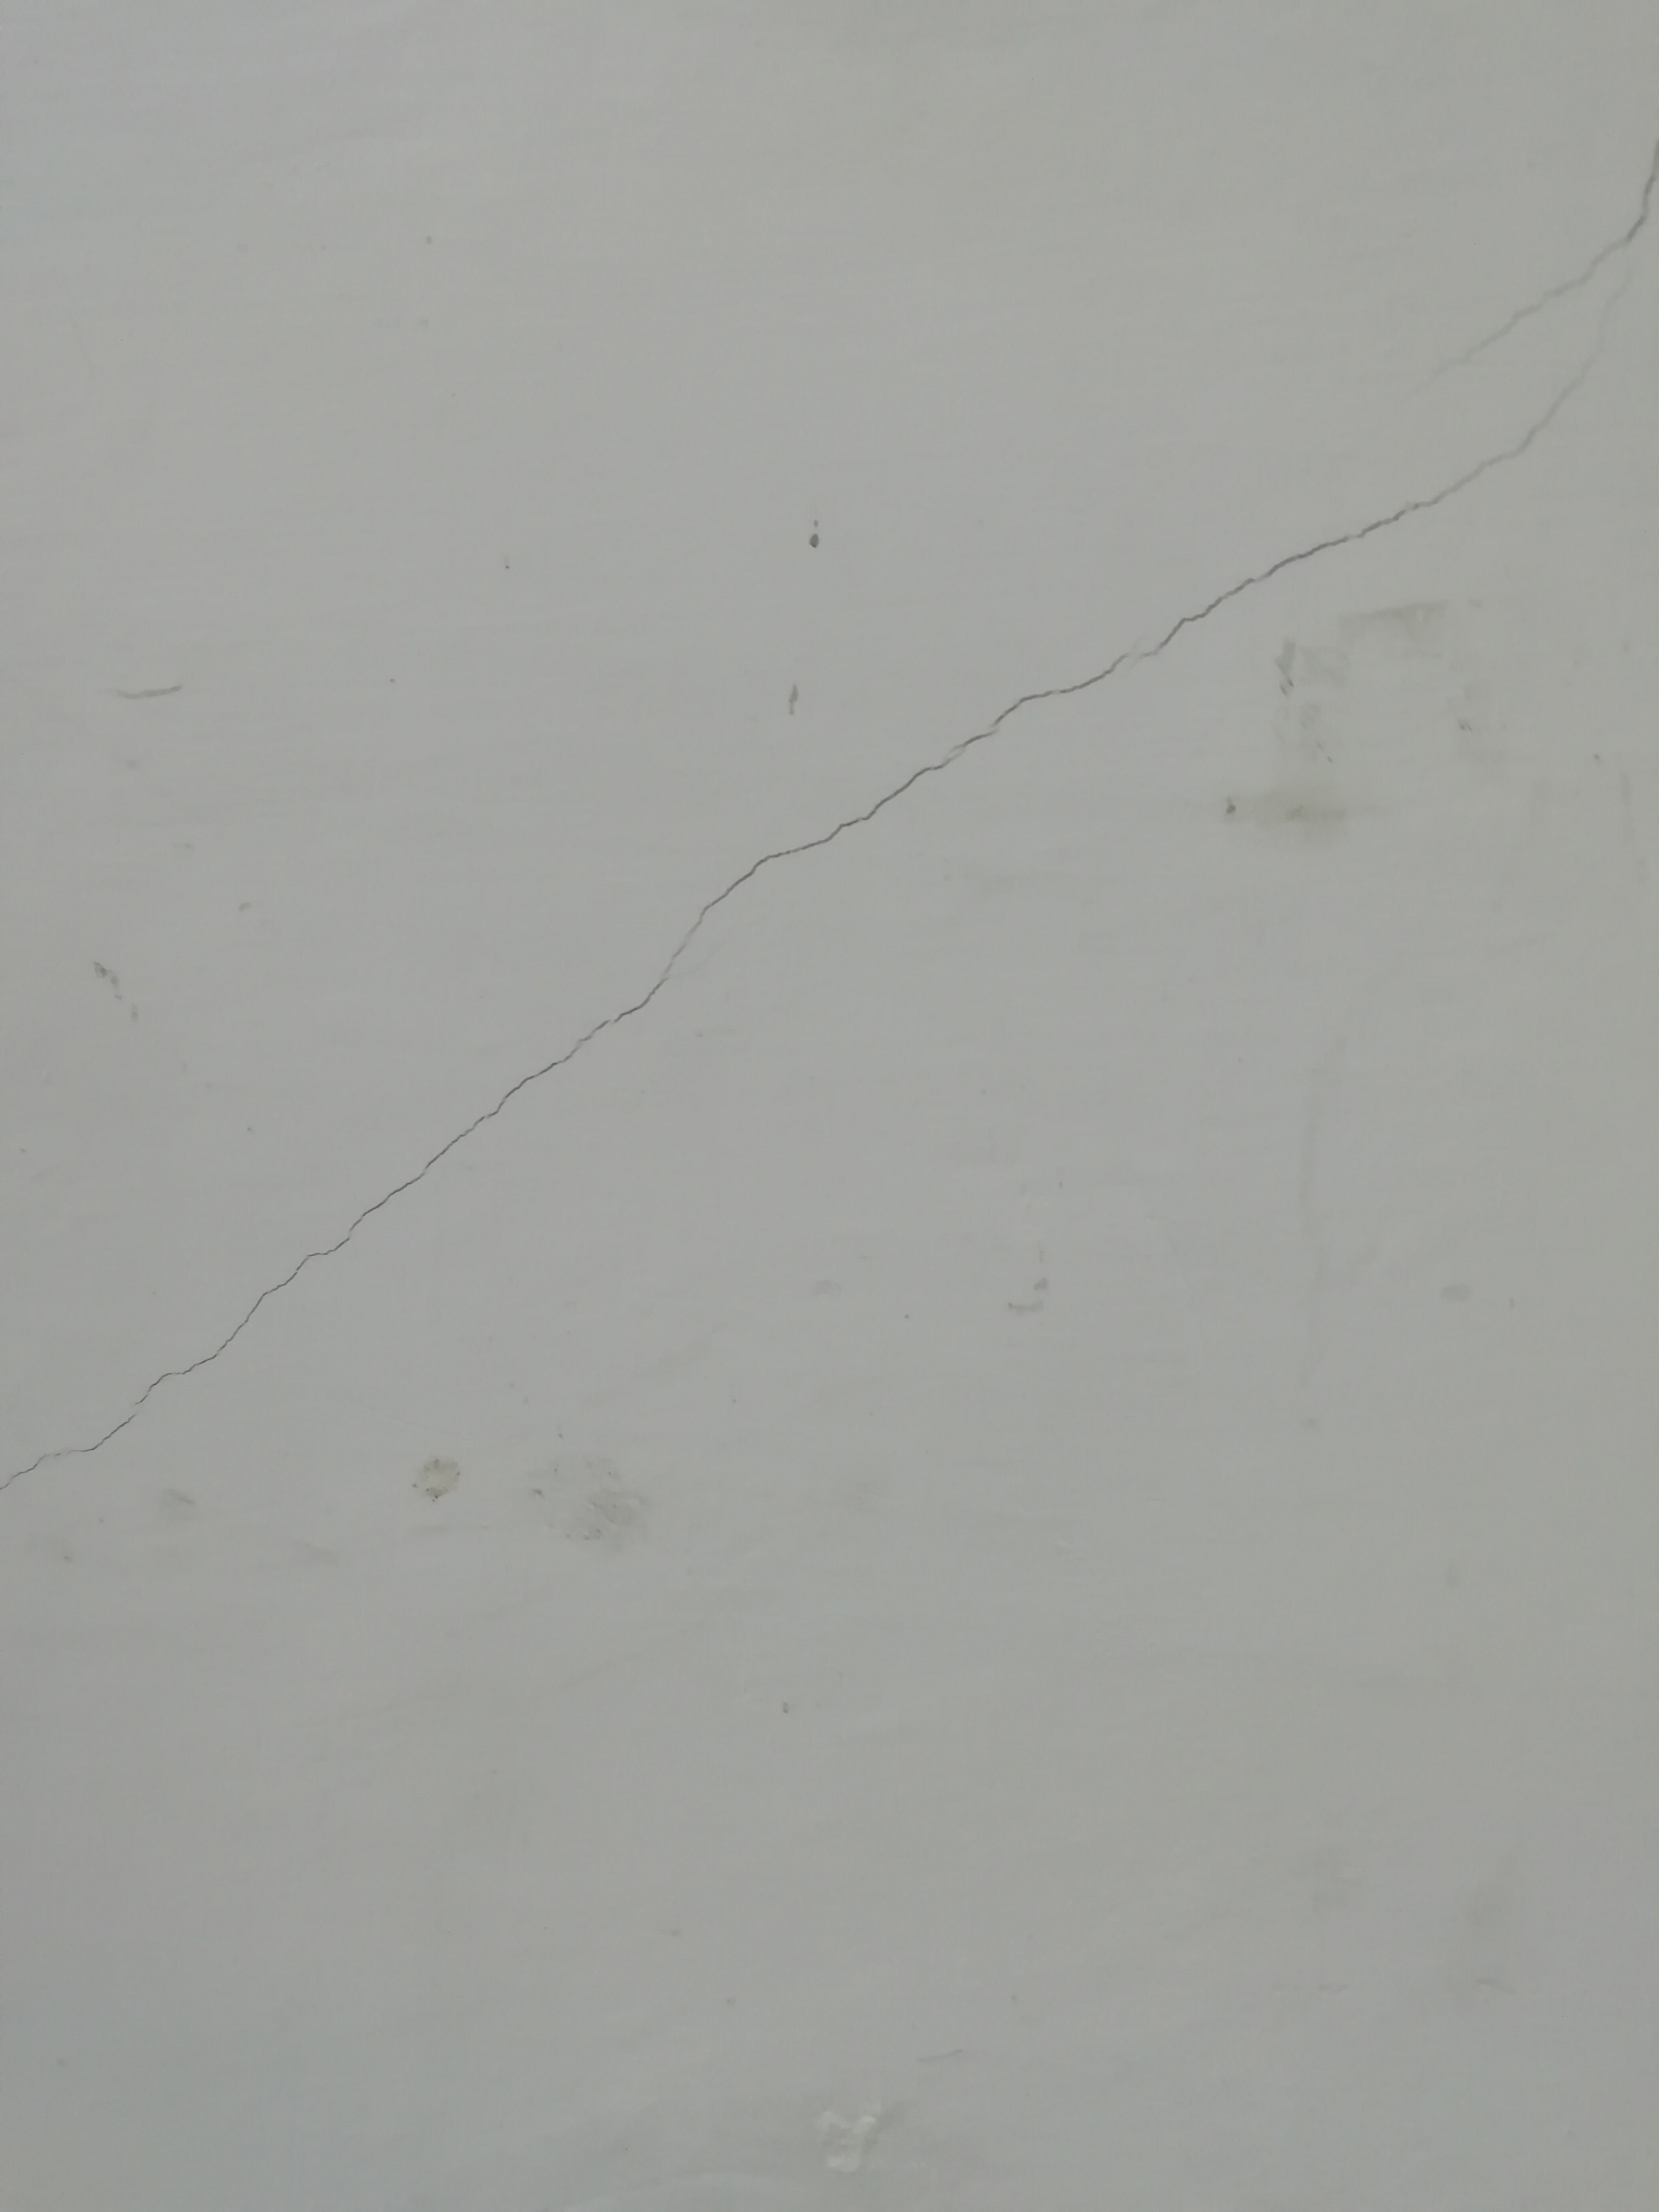Crack: (82, 510, 1422, 1453)
